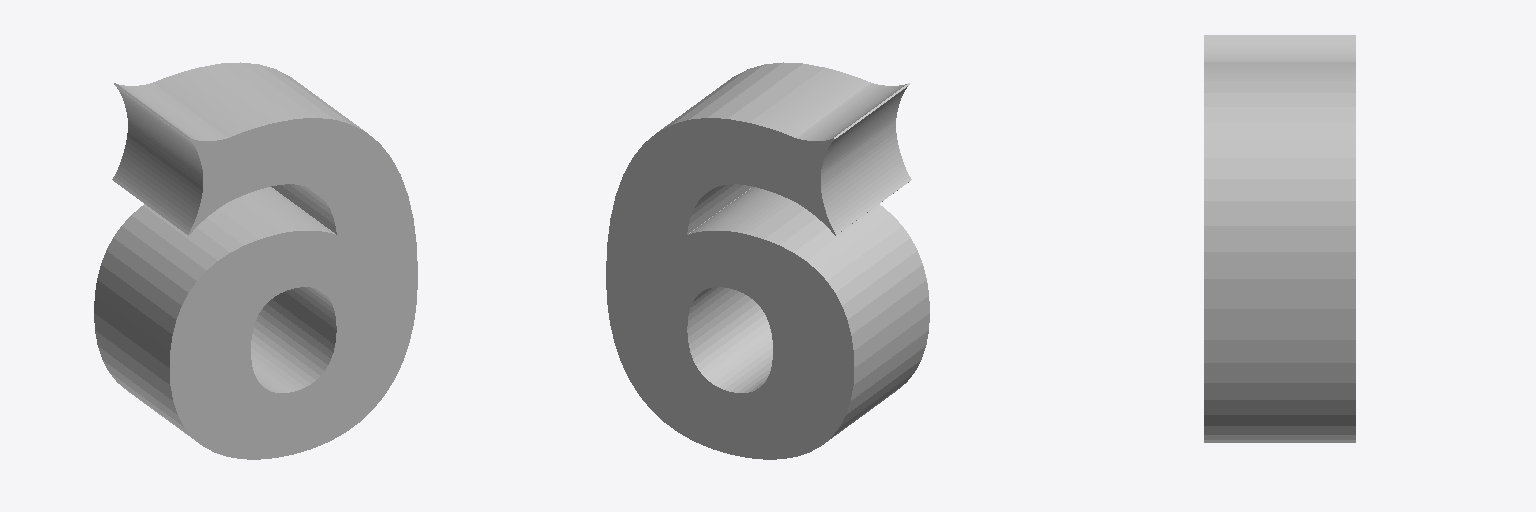
3 renders of one model, left to right at view 1: azimuth 30°, elevation 25°; view 2: azimuth 150°, elevation 25°; view 3: azimuth 270°, elevation 25°, orthographic.
Parts seen in each view (by area): view 1: テキスト; view 2: テキスト; view 3: テキスト.
Boxes of the visible parts, x1,y1,x2,y2 form: テキスト: [94, 62, 417, 459]; テキスト: [606, 62, 929, 459]; テキスト: [1204, 35, 1355, 442].
Size of the model in its own units: 0.3796 by 0.4987 by 0.2.